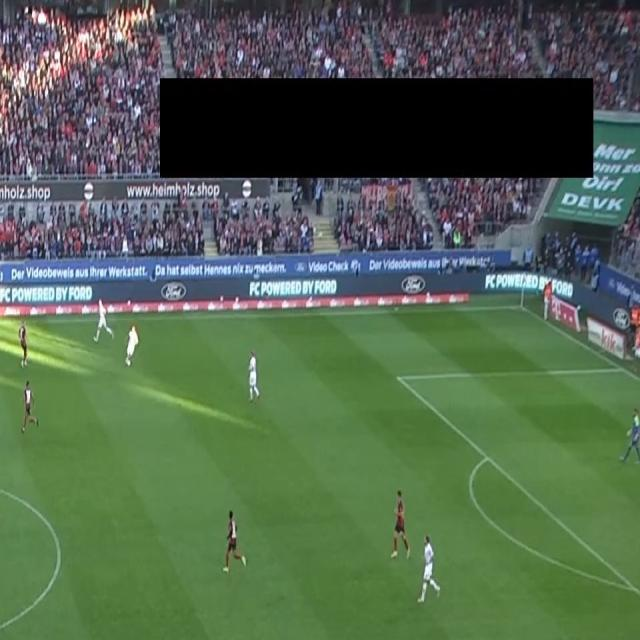ball: (126, 358, 132, 367)
